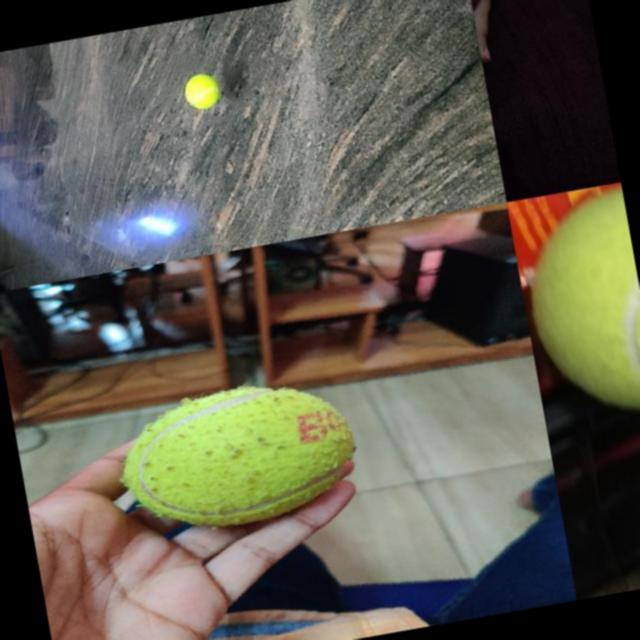tennis-ball: (112, 370, 364, 542), (513, 185, 640, 429), (182, 71, 222, 112)
